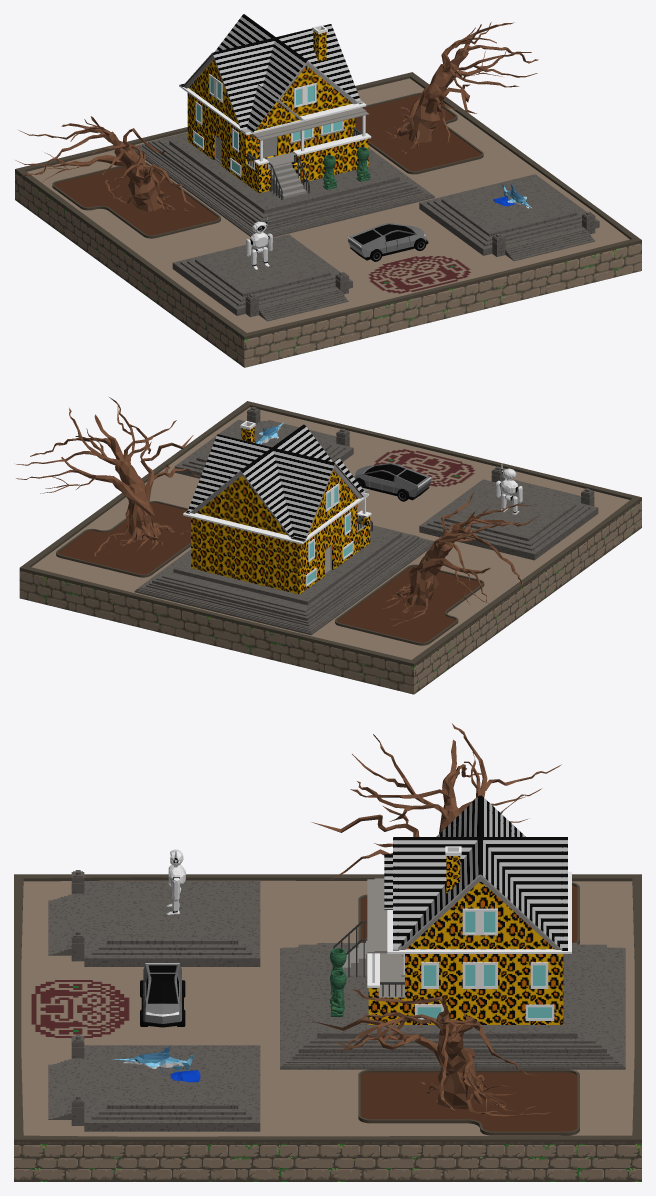
3 views of the same model, one above another, from view 1: azimuth 30°, elevation 25°; view 2: azimuth 150°, elevation 25°; view 3: azimuth 270°, elevation 25° (orthographic). The views are drawn at different scales.
Parts seen in each view (by area): view 1: Cube.011, Cube.637, VEHICLES_CYBERTRUCK, OBJRANDOM_PLATZEEBOT; view 2: Cube.011, Cube.637, VEHICLES_CYBERTRUCK, OBJRANDOM_PLATZEEBOT; view 3: Cube.011, Cube.637, VEHICLES_CYBERTRUCK, ANIMAL_PEZ_ESPADA, OBJRANDOM_PLATZEEBOT.
Part boxes in pixels (box(x1,y1,x2,y2)): Cube.011: box(15, 22, 641, 367); Cube.637: box(179, 14, 371, 199); VEHICLES_CYBERTRUCK: box(348, 223, 428, 261); OBJRANDOM_PLATZEEBOT: box(246, 216, 272, 269); Cube.011: box(14, 397, 641, 694); Cube.637: box(183, 421, 372, 594); VEHICLES_CYBERTRUCK: box(353, 463, 431, 501); OBJRANDOM_PLATZEEBOT: box(496, 463, 522, 514); Cube.011: box(14, 723, 641, 1181); Cube.637: box(333, 795, 571, 1024); VEHICLES_CYBERTRUCK: box(140, 963, 185, 1027); ANIMAL_PEZ_ESPADA: box(112, 1046, 200, 1082); OBJRANDOM_PLATZEEBOT: box(166, 849, 185, 914).
Bounding box in the file's own units: 5099 × 1659 × 4000.
Materials: 32 (6 with a texture image).
